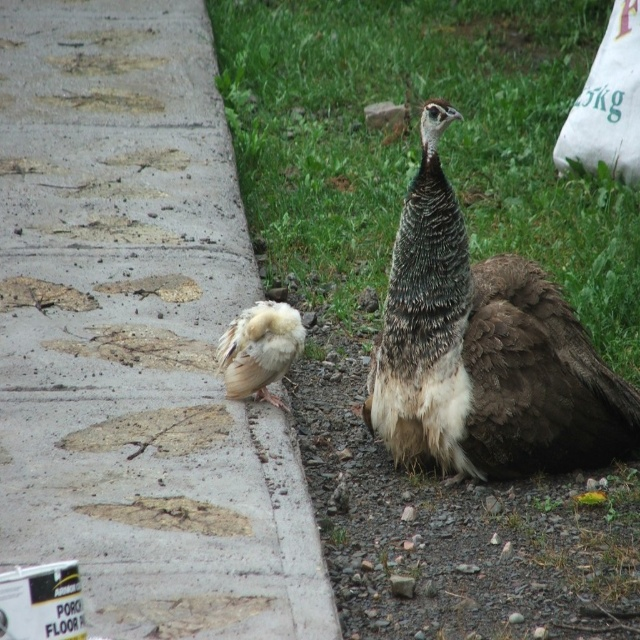Chicken: (215, 299, 319, 405)
